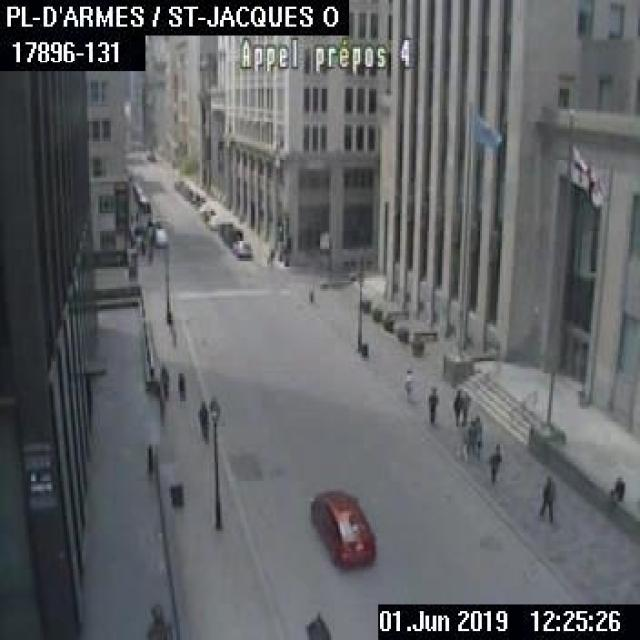pedestrian: (142, 602, 174, 638), (300, 609, 331, 638), (536, 473, 554, 522), (487, 440, 502, 482), (425, 384, 438, 424), (609, 473, 625, 502), (472, 414, 482, 460), (196, 398, 207, 438), (174, 370, 186, 403), (451, 388, 461, 426), (462, 418, 472, 456), (402, 364, 412, 402), (460, 390, 470, 423), (158, 364, 168, 396)
vehicle: (307, 489, 375, 567), (232, 237, 251, 256), (223, 227, 241, 246)
